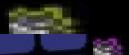stone: (0, 0, 89, 34), (89, 34, 129, 55)
